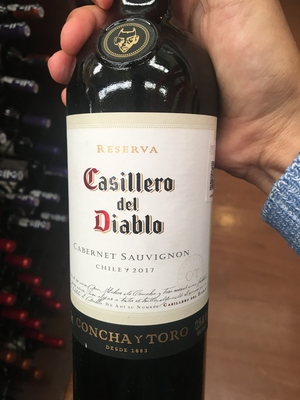casillero del diablo cabernet sauvignon: (56, 18, 223, 400)
